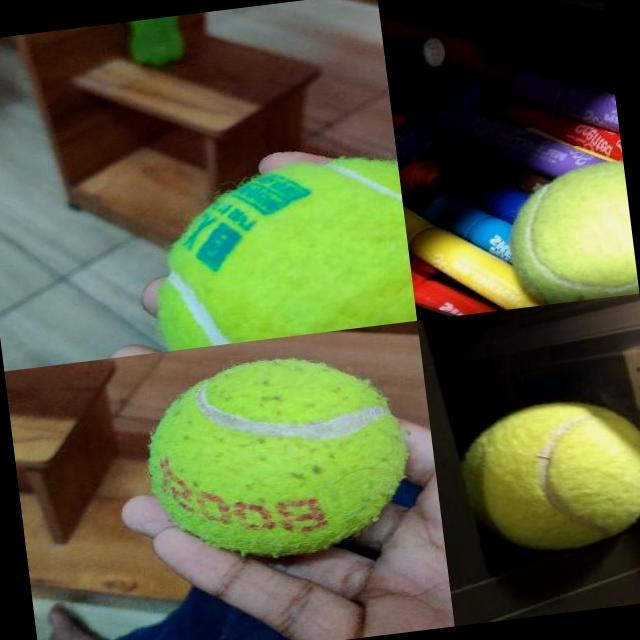Tennis Ball: (138, 342, 416, 570), (142, 152, 417, 350), (463, 388, 640, 559), (499, 158, 639, 307)
